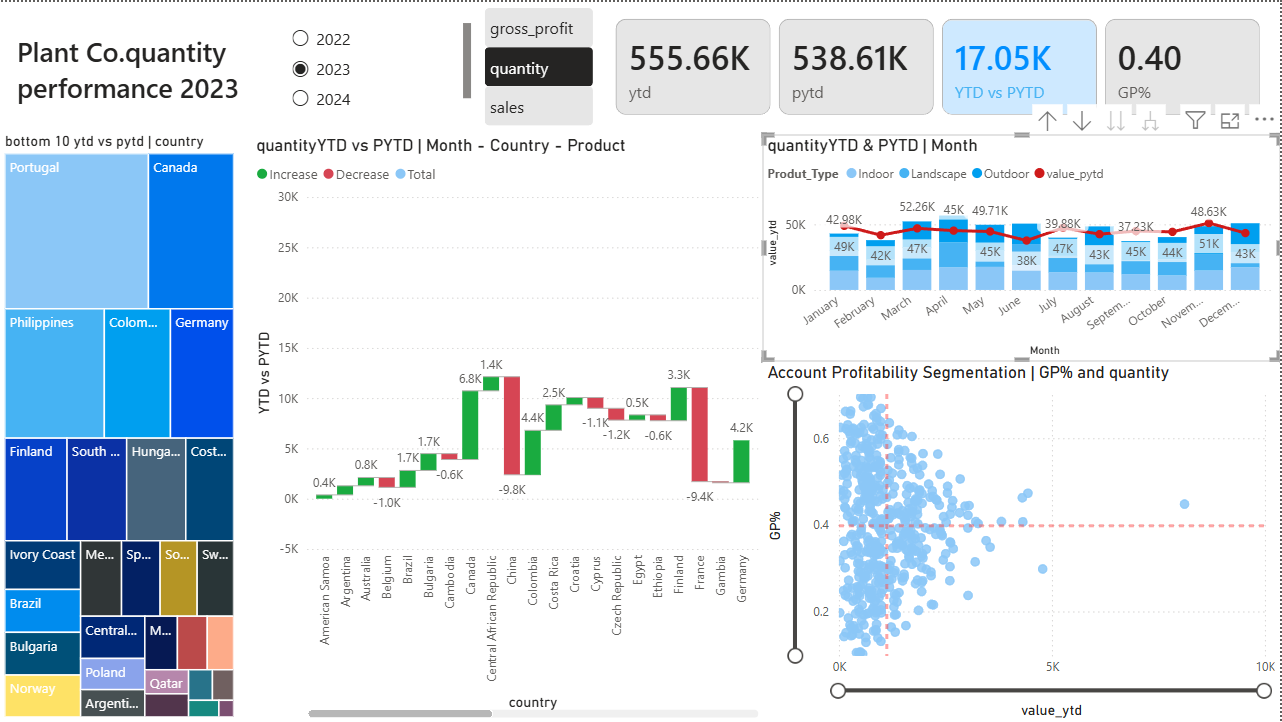

Layout of this report page (visuals, bound fields, positions):
{"tool":"powerbi","page":{"name":"Page 1","canvas":[1280,720],"ordinal":0},"visuals":[{"type":"cardVisual","fields":{"Data":["_measure.s_ytd","_measure.s_pytd","_measure.YTD vs PYTD","_measure.GP%"]},"box":[599.2,0,681.1,130.8],"z":0},{"type":"advancedSlicerVisual","fields":{"Values":["slc value.values"]},"box":[480.6,1.2,118.6,129.6],"z":1000},{"type":"listSlicer","fields":{"Values":["dim_date.Date.Variation.Date Hierarchy.Year"]},"box":[286.8,16.5,190.7,97.4],"z":2000},{"type":"treemap","title":"bottom 10 ytd vs pytd | country","fields":{"Group":["dim_account.country"],"Values":["_measure.YTD vs PYTD"]},"box":[0,130.4,238.8,590.1],"z":3000},{"type":"waterfallChart","fields":{"Y":["_measure.YTD vs PYTD"],"Category":["dim_date.Date.Variation.Date Hierarchy.Month","dim_account.country","dim_products.Produt_Type","dim_products.Product_Name"]},"box":[250.7,132.1,512.4,588.2],"z":4000},{"type":"lineStackedColumnComboChart","fields":{"Y":["_measure.s_ytd"],"Y2":["_measure.s_pytd"],"Category":["dim_date.Date.Variation.Date Hierarchy.Quarter","dim_date.Date.Variation.Date Hierarchy.Month"],"Series":["dim_products.Produt_Type"]},"box":[763,132.1,517.3,227.4],"z":5000},{"type":"scatterChart","fields":{"Y":["_measure.GP%"],"X":["_measure.s_ytd"],"Category":["dim_account.Account"]},"box":[763,360,517,360],"z":6000},{"type":"cardVisual","fields":{"Data":["_measure._report title"]},"box":[0,1.2,287.4,129.6],"z":7000}]}

Visuals, with their boxes in screenshot pixels (x1, y1, x2, y2), scaled from the page's 1280x720 canvas onto the 1282x722 screenshot:
cardVisual - _measure.s_ytd x _measure.s_pytd: l=600, t=0, r=1281, b=131
advancedSlicerVisual - slc value.values: l=481, t=1, r=600, b=131
listSlicer - dim_date.Date.Variation.Date Hierarchy.Year: l=287, t=17, r=478, b=114
"bottom 10 ytd vs pytd | country" treemap: l=0, t=131, r=239, b=721
waterfallChart - _measure.YTD vs PYTD x dim_date.Date.Variation.Date Hierarchy.Month: l=251, t=132, r=764, b=721
lineStackedColumnComboChart - _measure.s_ytd x _measure.s_pytd: l=764, t=132, r=1281, b=360
scatterChart - _measure.GP% x _measure.s_ytd: l=764, t=361, r=1281, b=721
cardVisual - _measure._report title: l=0, t=1, r=288, b=131
